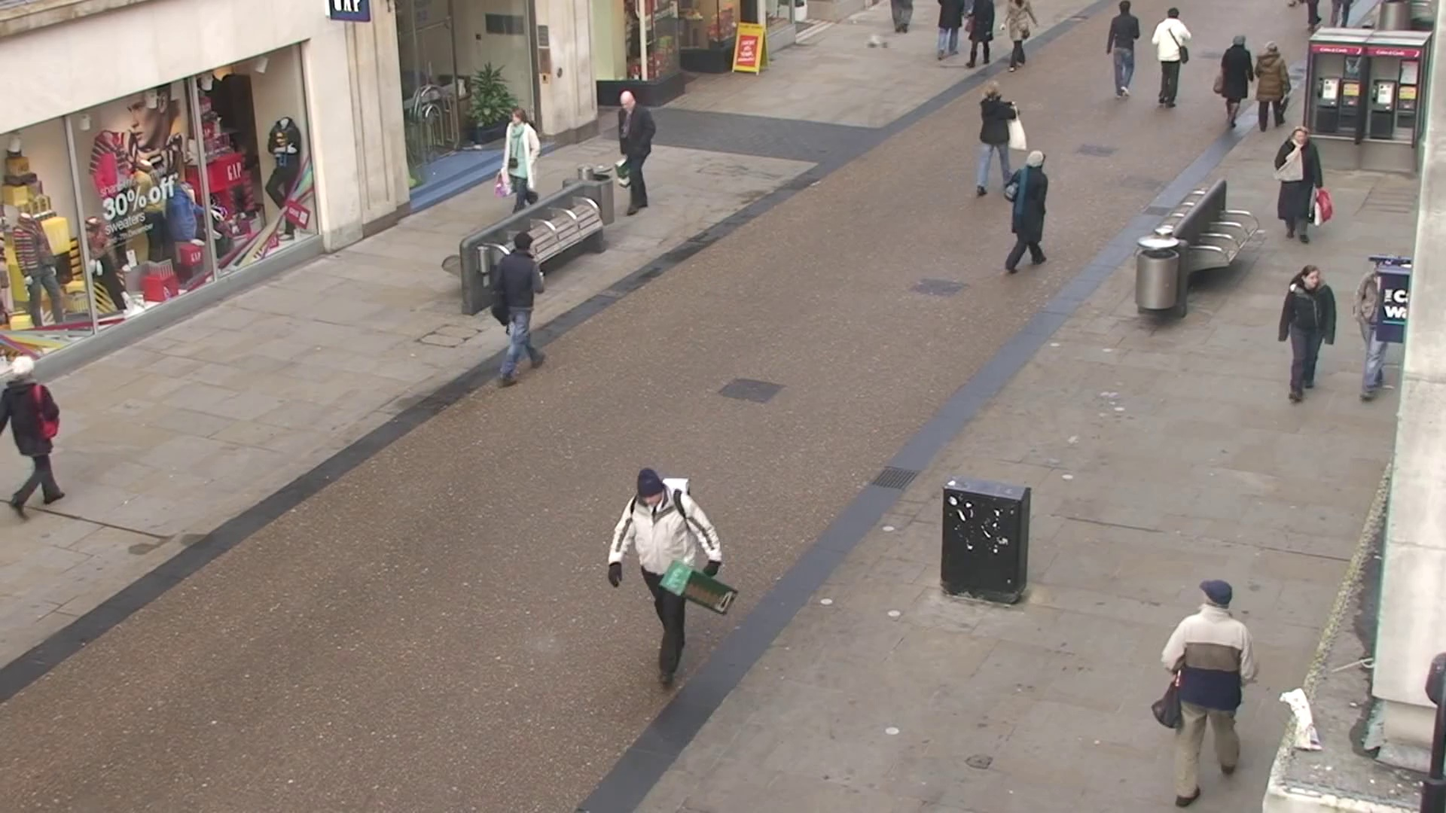person: (606, 467, 732, 691), (1156, 579, 1255, 805), (0, 370, 66, 514), (492, 233, 546, 385), (1279, 265, 1338, 404), (1002, 149, 1049, 273), (615, 87, 657, 216), (972, 87, 1017, 199), (1274, 126, 1317, 243), (502, 108, 543, 214), (1152, 6, 1192, 111), (1215, 34, 1257, 134), (1106, 1, 1144, 97), (991, 0, 1039, 72), (1253, 44, 1291, 130), (962, 2, 1006, 74), (926, 0, 952, 58), (887, 0, 907, 29)
